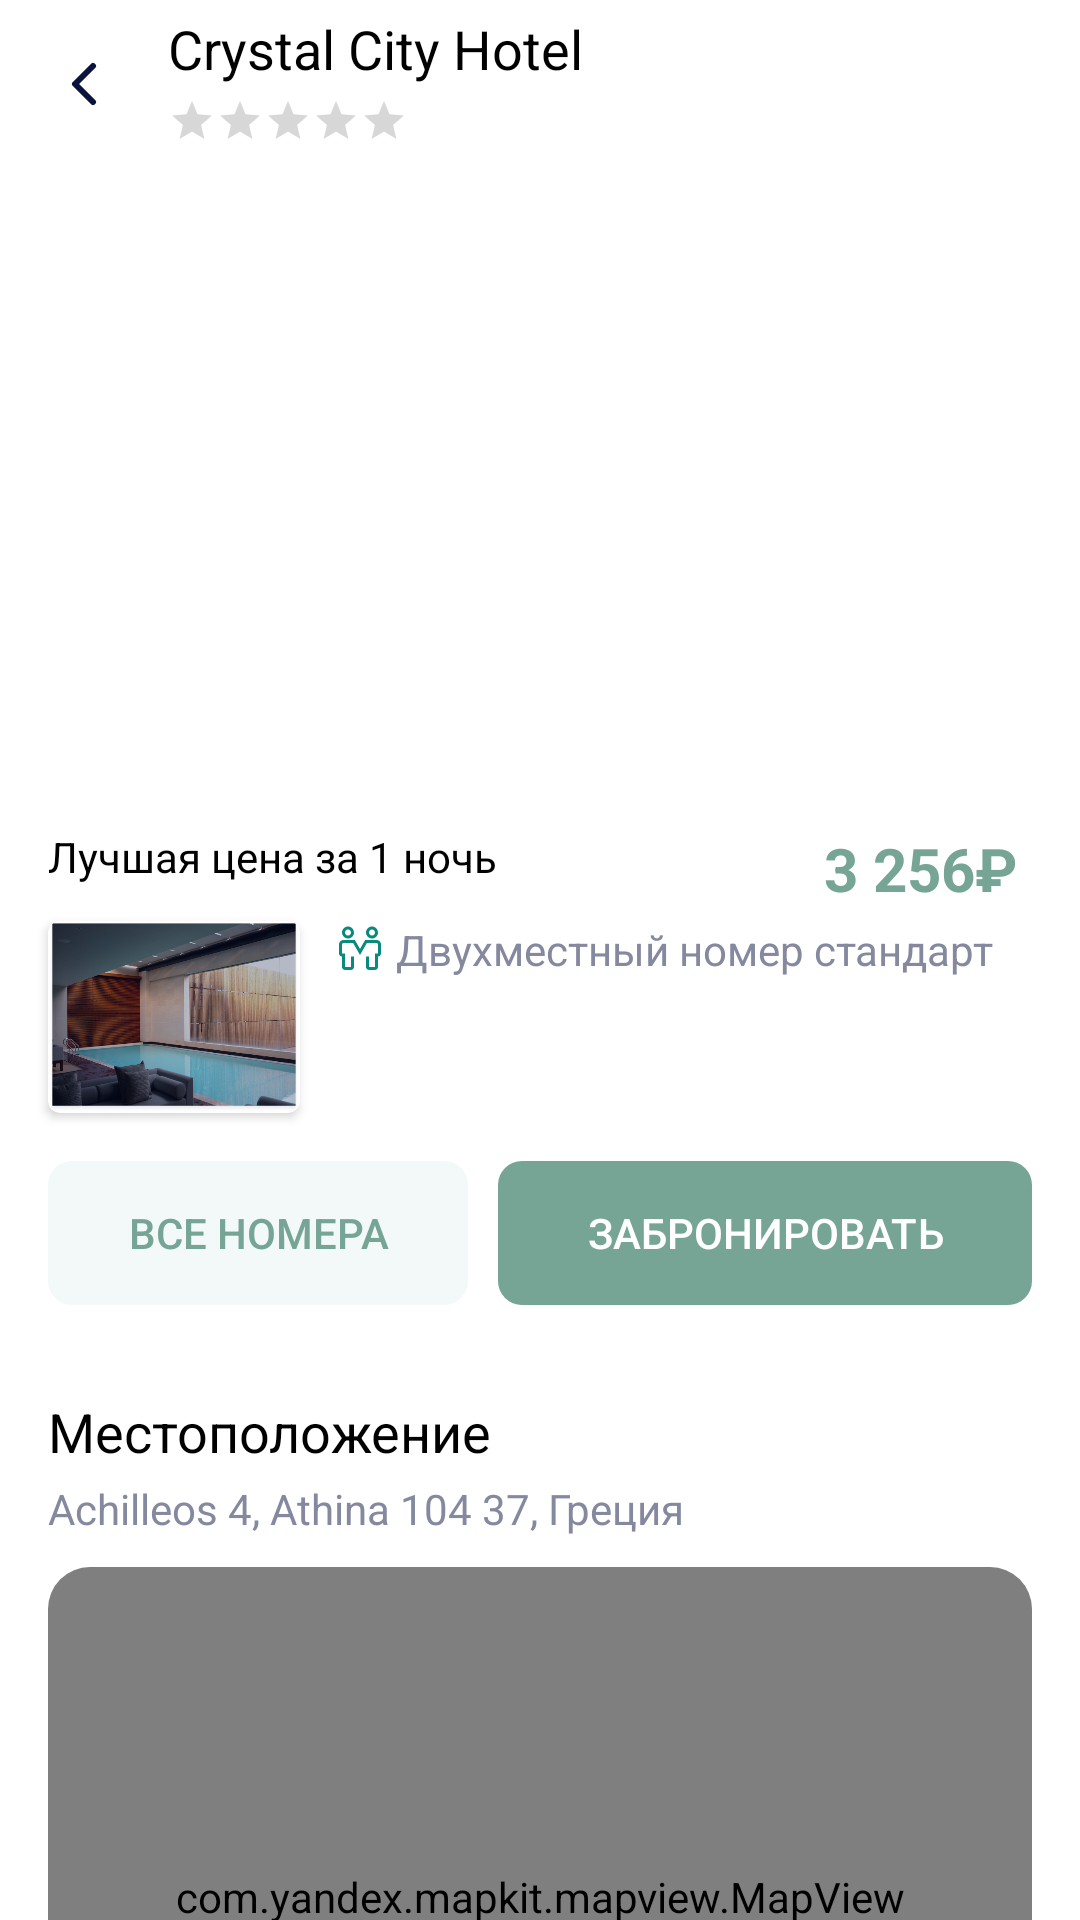

Screen size 1080*1920. Icon name, then its box in pixels as (x1, y1, x2, y2):
back: (72, 63, 96, 105)
hotel: (48, 923, 296, 1113)
